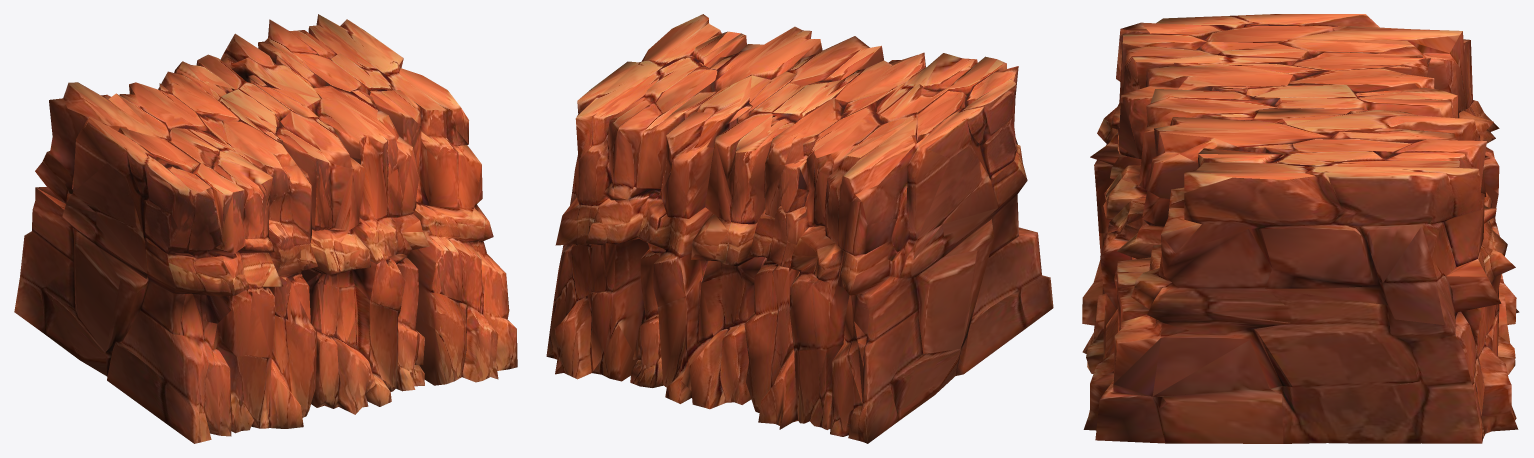
Rendered from rockD.glb.
3 renders of one model, left to right at view 1: azimuth 30°, elevation 25°; view 2: azimuth 150°, elevation 25°; view 3: azimuth 270°, elevation 25°, orthographic. The views are drawn at different scales.
Parts seen in each view (by area): view 1: RedRockKitD; view 2: RedRockKitD; view 3: RedRockKitD.
Boxes of the visible parts, left/top/right/bottom form: RedRockKitD: left=14, top=14, right=517, bottom=443; RedRockKitD: left=546, top=14, right=1053, bottom=443; RedRockKitD: left=1082, top=14, right=1519, bottom=443.
Bounding box in the file's own units: 5.75 × 4.1 × 6.13.
Materials: 1 (1 with a texture image).
